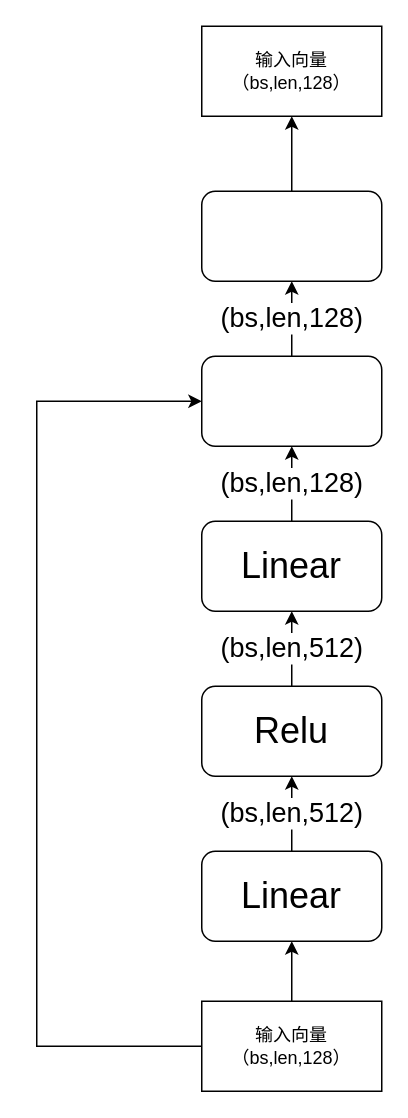
This 408x1118 diagram has some shape labels left out. The shapes that lost their labels are listed below. From the top down, each one's centre as x and y in pixels, then its label:
At [291,235]: "no_norm".
At [291,400]: "add".
